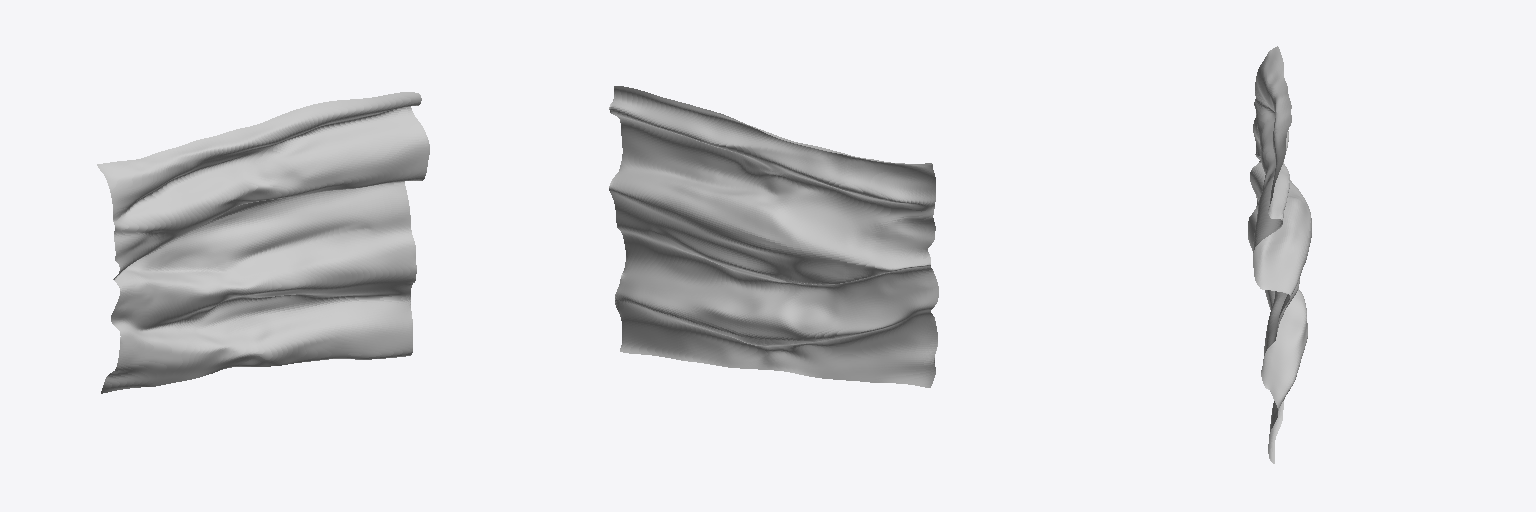
The model's file is SM_Curtain_02_HighPoly_06.OBJ.
The picture shows the model from 3 angles: view 1: azimuth 30°, elevation 25°; view 2: azimuth 150°, elevation 25°; view 3: azimuth 270°, elevation 25°; orthographic projection.
Parts seen in each view (by area): view 1: Group41469; view 2: Group41469; view 3: Group41469.
Boxes of the visible parts, box(x1,y1,x2,y2) form: Group41469: box(97, 92, 429, 393); Group41469: box(609, 86, 938, 387); Group41469: box(1248, 46, 1311, 463).
Bounding box in the file's own units: 2.74 × 2.2 × 0.4787.